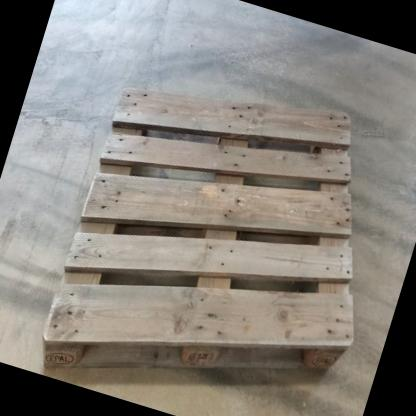BoxFace: (35, 84, 356, 375)
